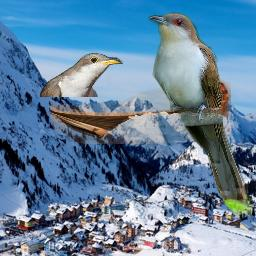Cuckoo: (148, 12, 252, 215), (40, 53, 123, 97)
Swallow: (50, 79, 231, 144)
